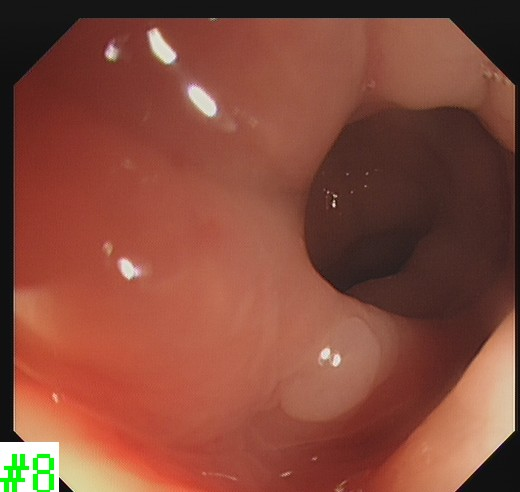others: (274, 305, 403, 423)
